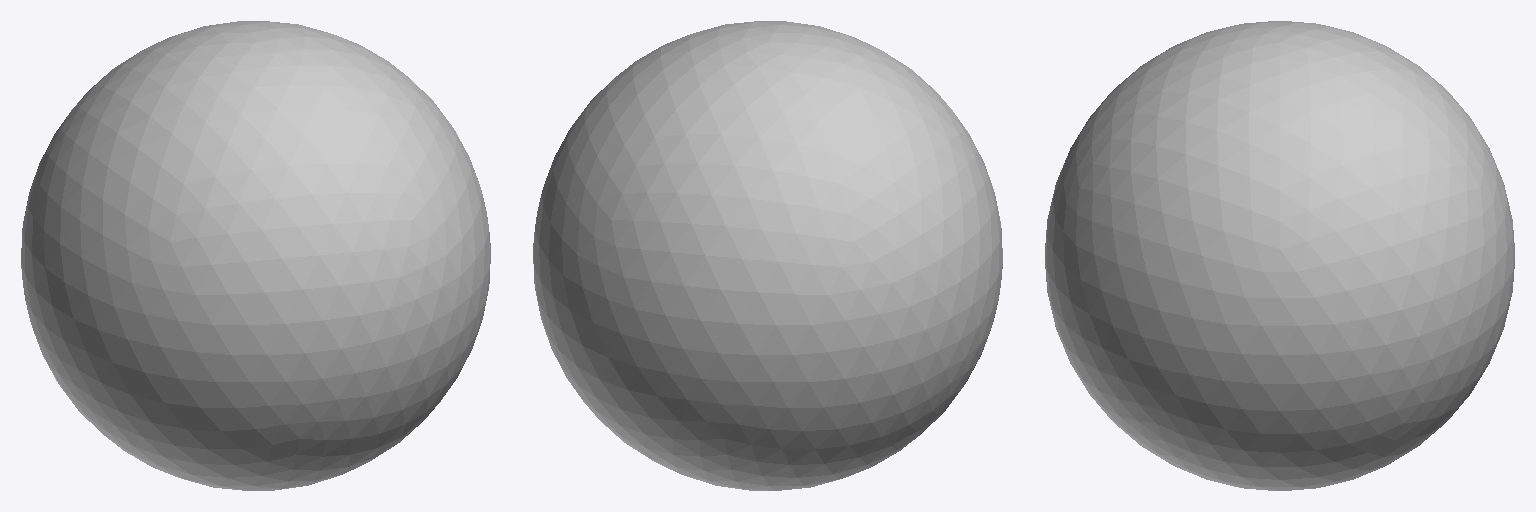
Rendered from light_obj.obj.
3 renders of one model, left to right at view 1: azimuth 30°, elevation 25°; view 2: azimuth 150°, elevation 25°; view 3: azimuth 270°, elevation 25°, orthographic.
Visible parts, largest first — view 1: light_geo; view 2: light_geo; view 3: light_geo.
Boxes of the visible parts, box(x1,y1,x2,y2) form: light_geo: box(21, 21, 490, 490); light_geo: box(533, 21, 1002, 490); light_geo: box(1045, 21, 1514, 490).
Size of the model in its own units: 3.2 by 3.2 by 3.2.